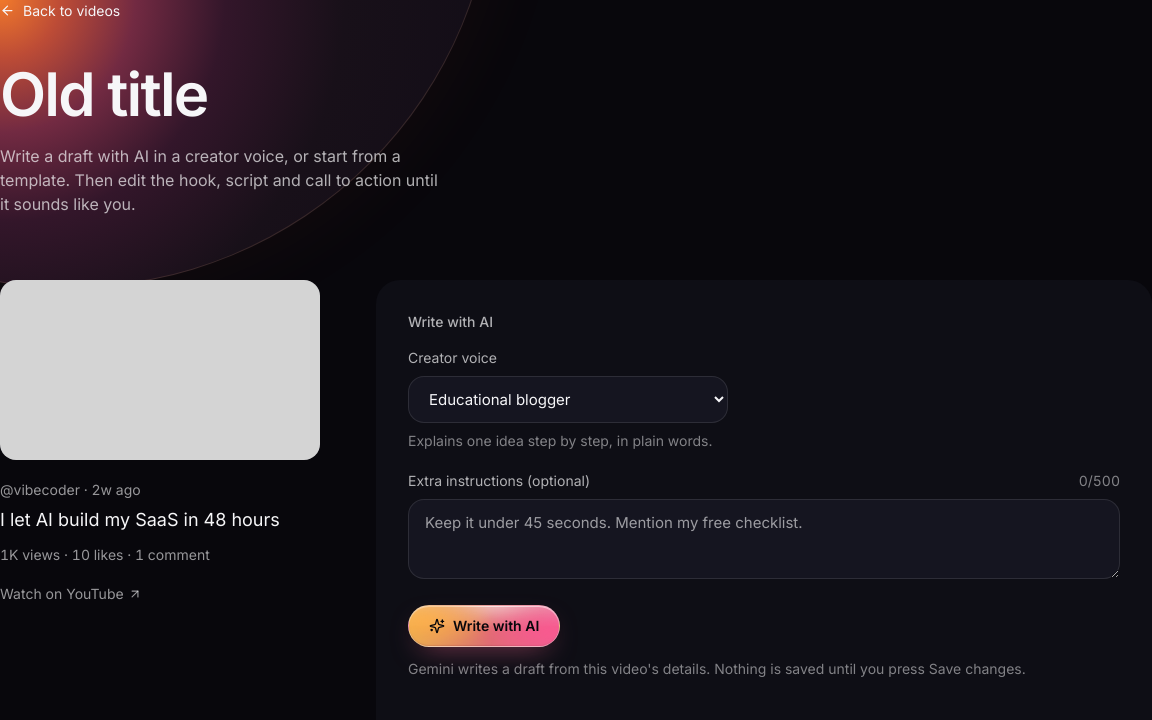
Test: Delete a saved voice › asks first; Cancel keeps it and returns focus to Delete
The image size is (1152, 720).
Check: the heading "Write with AI" is shown, box [408,313,493,330]
Step 1. Select "Finance" in the dropdown labelled "Creator voice" → {"x": 568, "y": 400}, box [408,376,728,423]
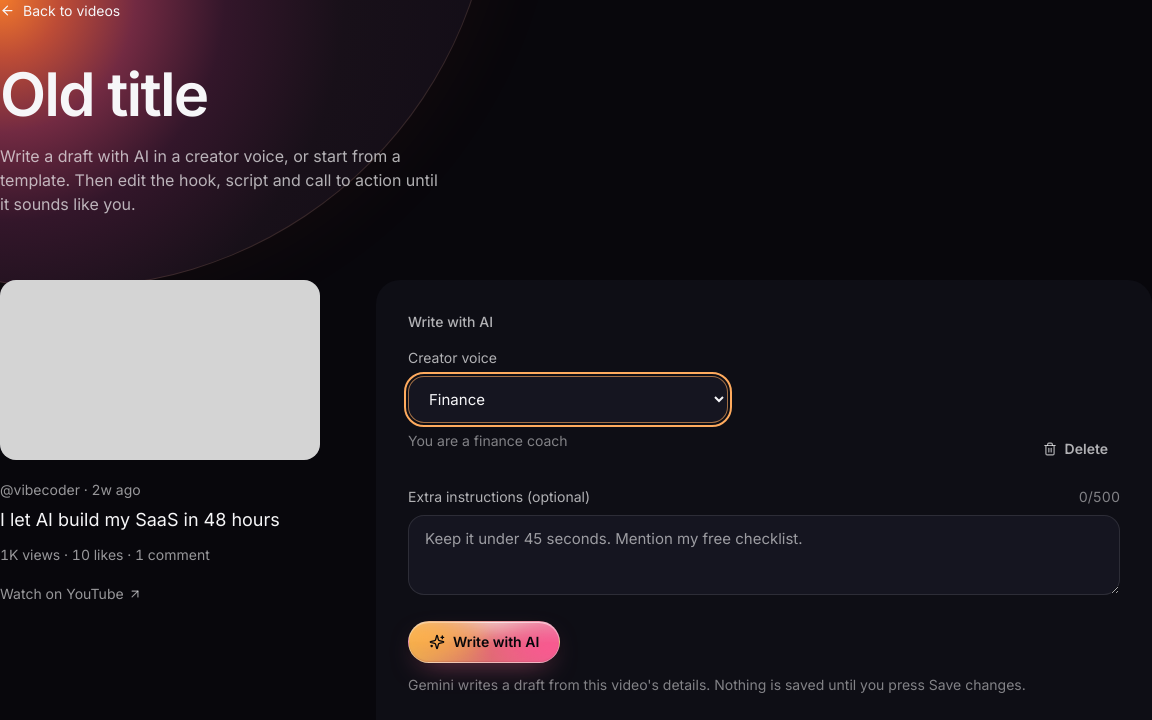
Step 2. Click the button with aria-label "Delete saved voice Finance" → {"x": 1075, "y": 449}, box [1031,431,1120,467]
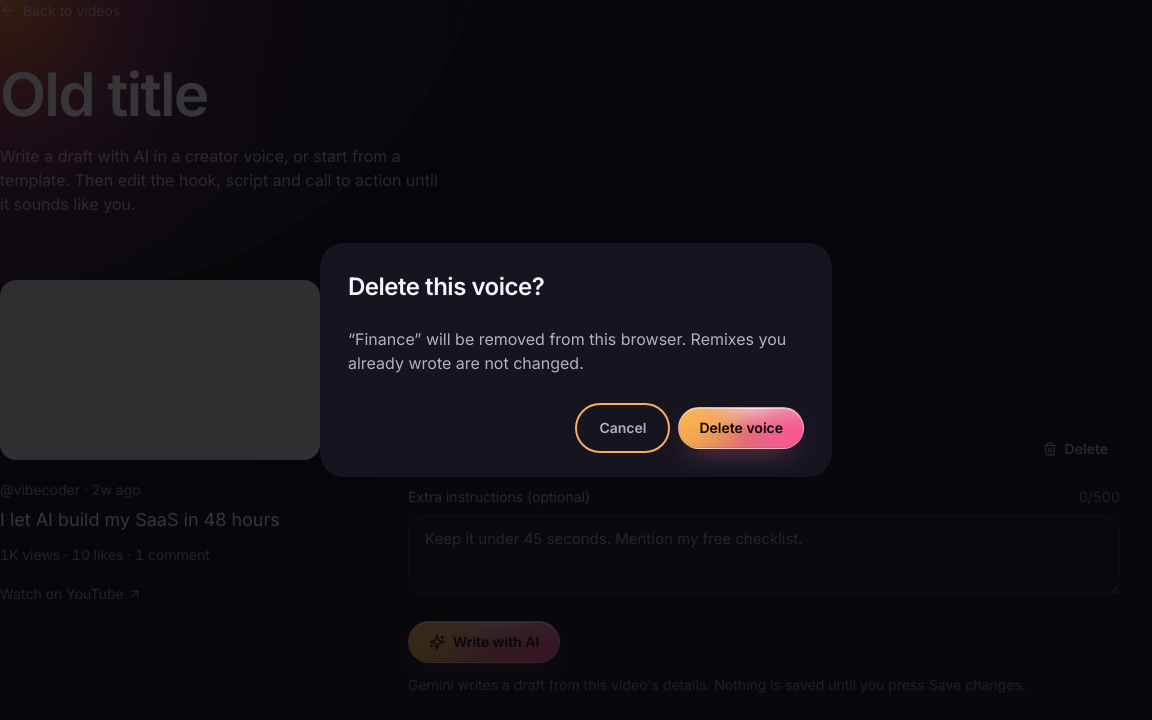
Check: the dialog "Delete this voice?" shows "“Finance” will be removed from this browser. Remixes you already wrote are not changed.", box [348,329,786,373]
Step 3. Click the button "Cancel" → {"x": 623, "y": 428}, box [579,407,666,449]
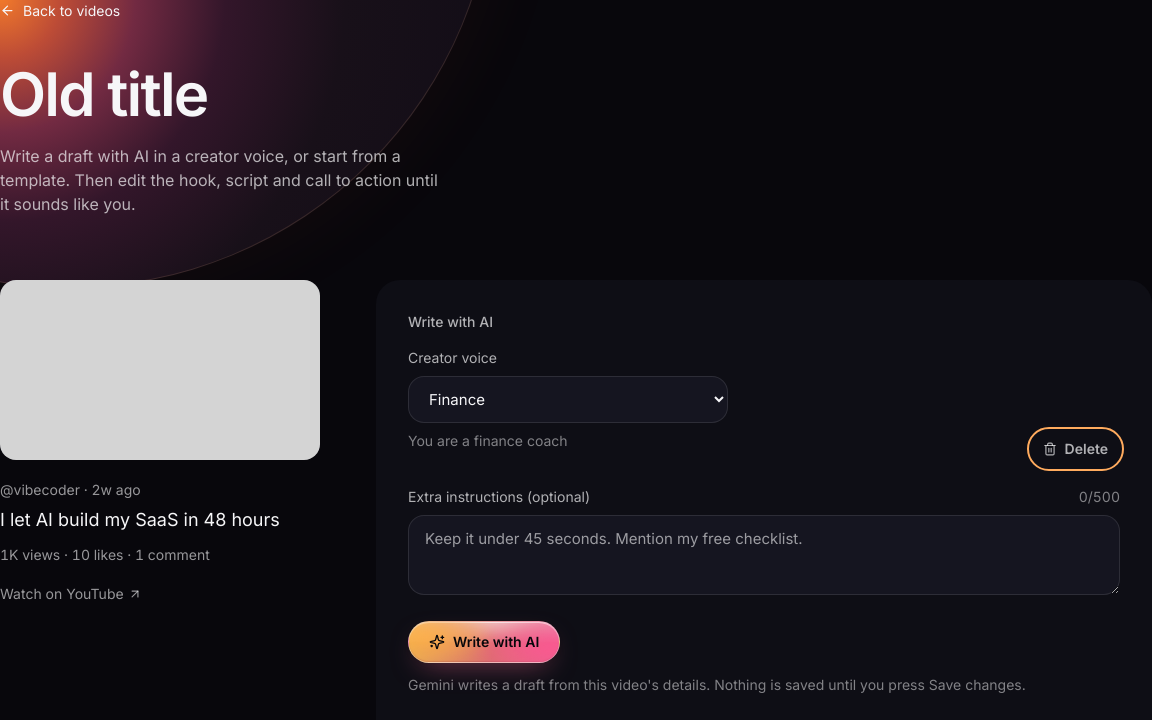
Check: the dialog is gone
